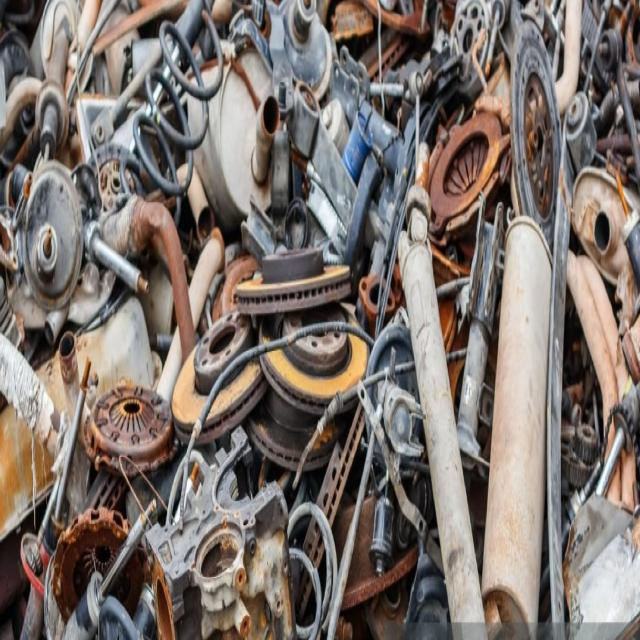Shock-Absorbers: (132, 0, 224, 218)
